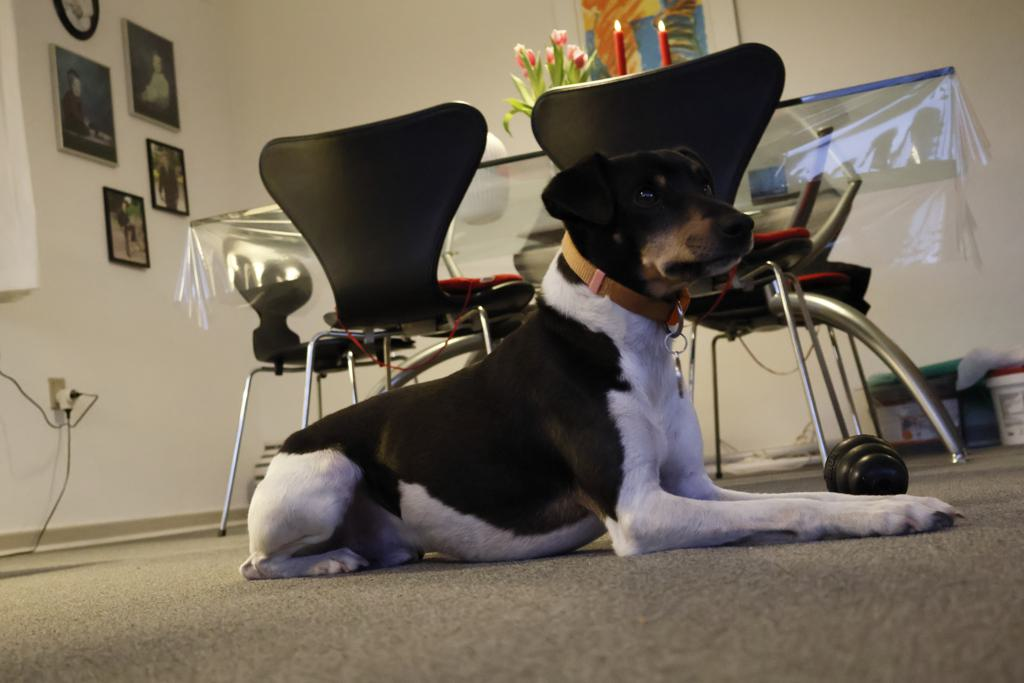Dog: (232, 132, 983, 591)
